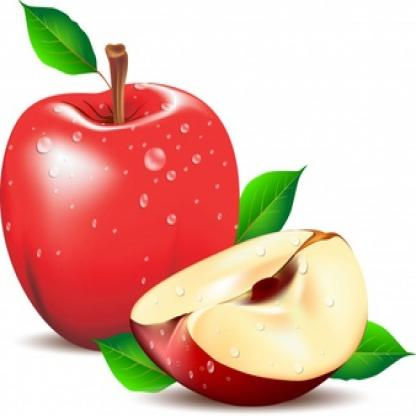apple: (2, 78, 240, 371)
